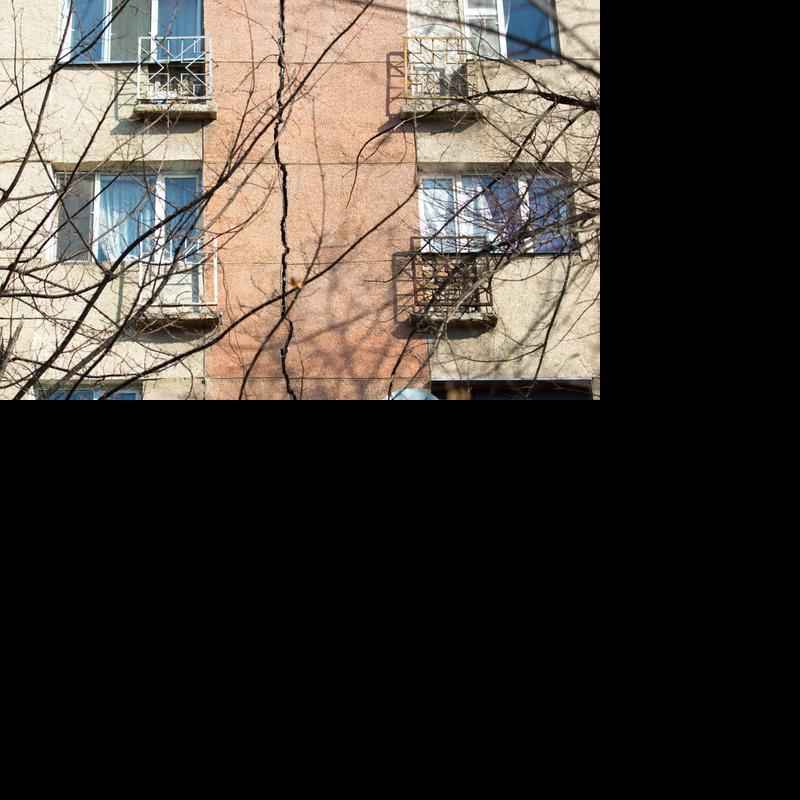pothole: (274, 0, 299, 404)
